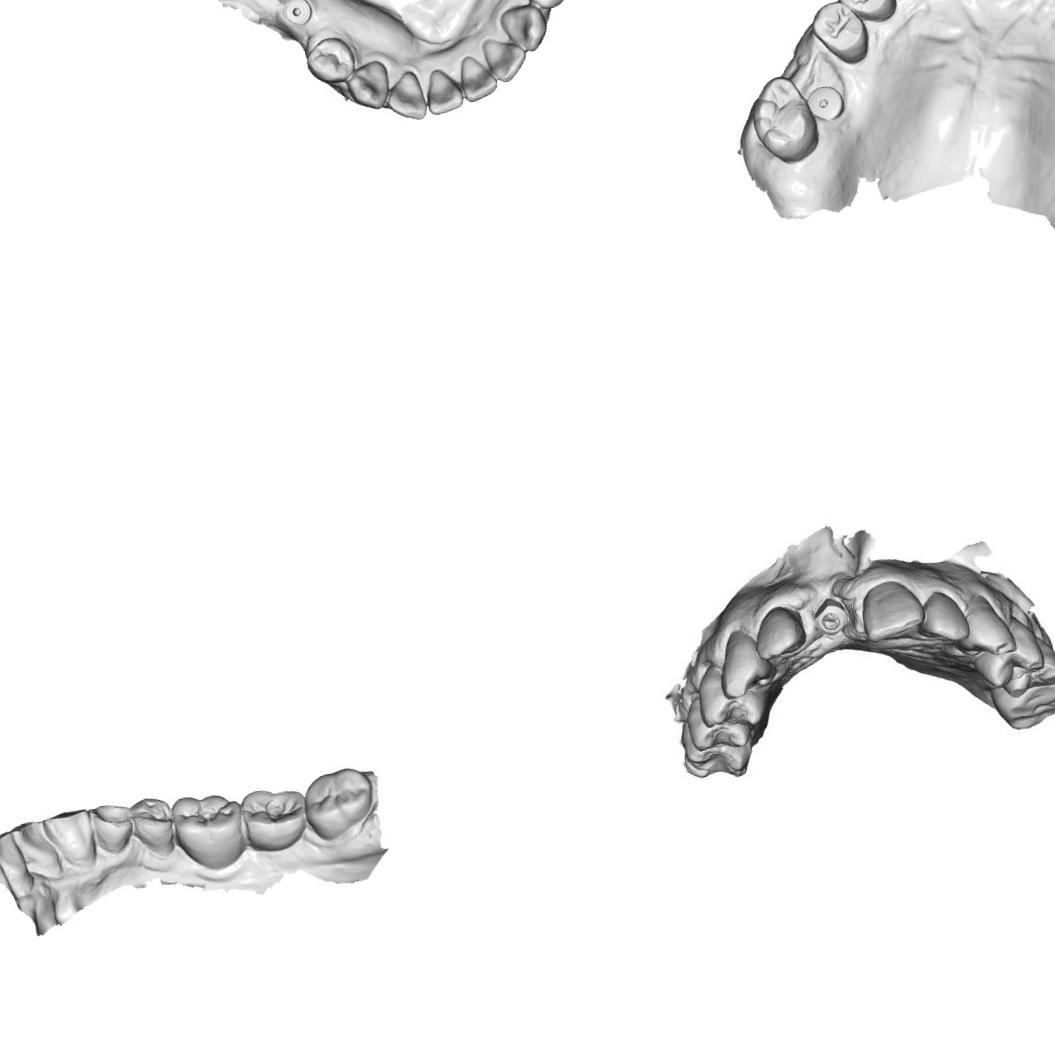canine: (714, 625, 778, 701), (958, 593, 1019, 662), (86, 799, 142, 861), (497, 1, 550, 56), (344, 59, 393, 114)
implant: (808, 594, 857, 643), (802, 82, 849, 126), (278, 0, 314, 28)
incisor: (854, 574, 927, 647), (7, 810, 66, 884), (38, 804, 102, 872), (750, 602, 810, 664), (914, 586, 970, 650), (0, 827, 36, 904), (382, 68, 430, 124), (480, 33, 530, 84), (457, 51, 501, 103), (422, 66, 466, 116)
molar: (745, 70, 824, 170), (166, 786, 250, 876), (296, 759, 381, 846), (234, 774, 318, 862)
premolar: (692, 657, 773, 737), (970, 622, 1048, 693), (806, 0, 872, 70), (682, 696, 752, 755), (125, 788, 182, 860), (302, 33, 358, 87), (832, 0, 899, 27)
